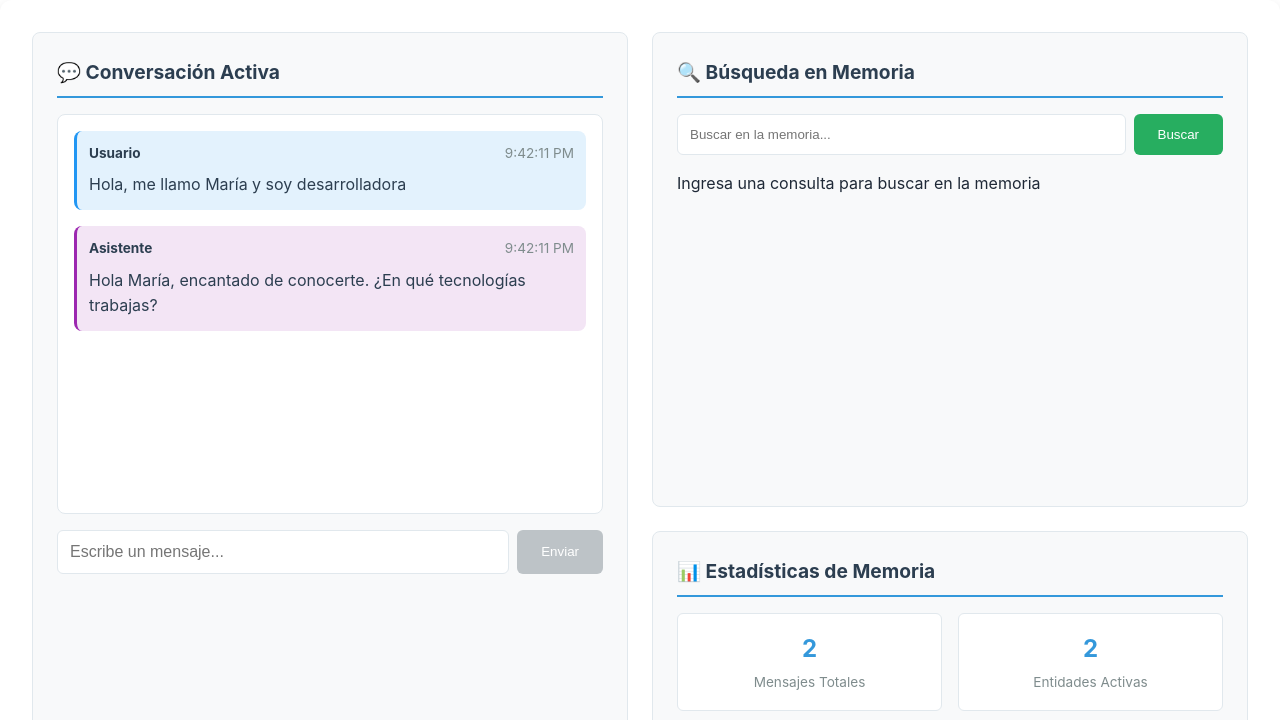
Test: Lesson03Implementation › LiveDemo Component › adds new message to conversation
The width and height of the screenshot is (1280, 720).
Type "Trabajo principalmente con React y Node.js" into the field with placeholder "Escribe un mensaje..." at (283, 552), box x1=57 y1=530 x2=509 y2=574
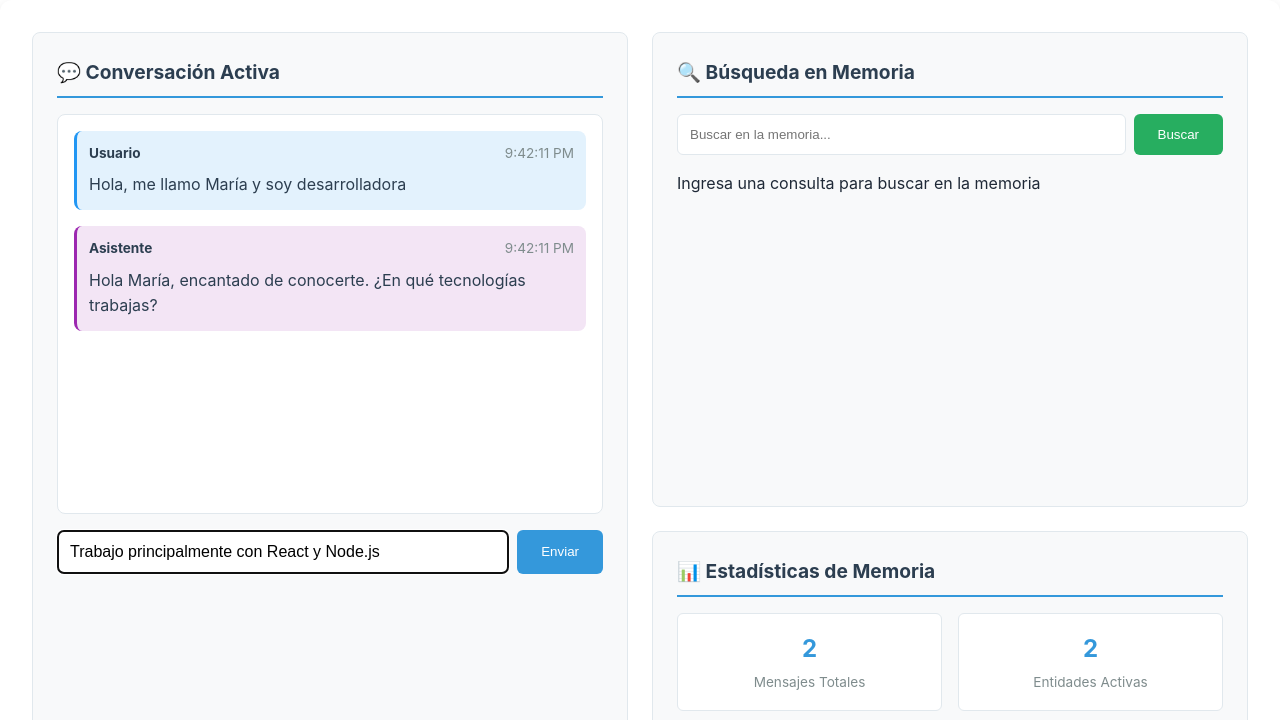
Click the button "Enviar" at (560, 552), box x1=517 y1=530 x2=603 y2=574
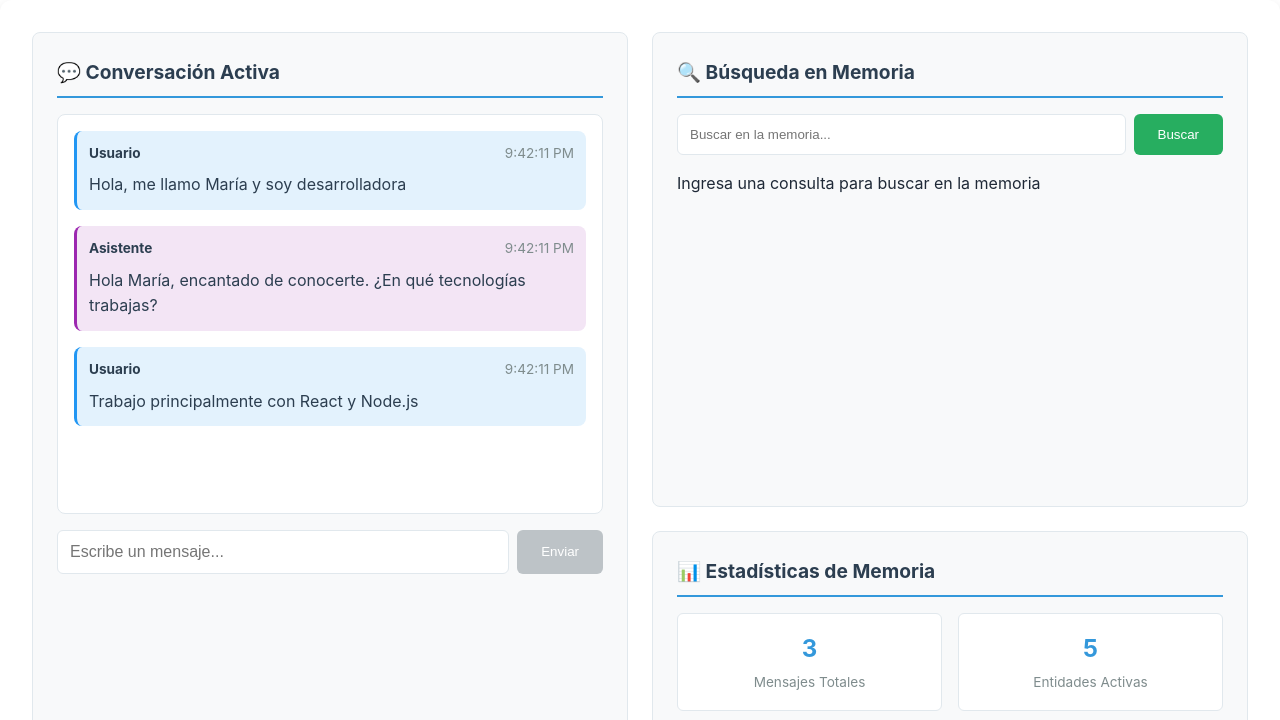
Result: the text "Trabajo principalmente con React y Node.js" is shown at x1=89 y1=391 x2=418 y2=411
